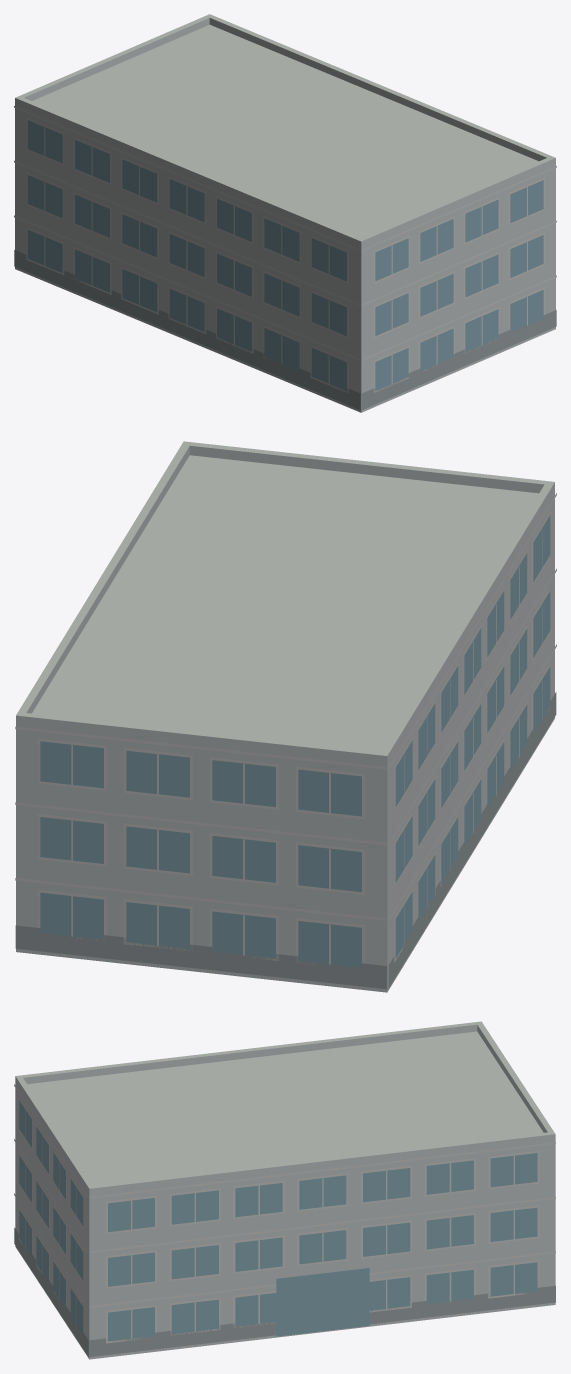
File: public-fff2ac7d-e3e2-4233-96e4-313e4d948b2d.glb
3 renders of one model, top to bottom at view 1: azimuth 30°, elevation 25°; view 2: azimuth 150°, elevation 25°; view 3: azimuth 270°, elevation 25°, orthographic. The views are drawn at different scales.
Parts seen in each view (by area): view 1: public-fff2ac7d-e3e2-4233-96e4-313e4d948b2d; view 2: public-fff2ac7d-e3e2-4233-96e4-313e4d948b2d; view 3: public-fff2ac7d-e3e2-4233-96e4-313e4d948b2d.
Part boxes in pixels (x1=…): public-fff2ac7d-e3e2-4233-96e4-313e4d948b2d: x1=14, y1=14, x2=556, y2=412; public-fff2ac7d-e3e2-4233-96e4-313e4d948b2d: x1=15, y1=441, x2=556, y2=992; public-fff2ac7d-e3e2-4233-96e4-313e4d948b2d: x1=14, y1=1021, x2=555, y2=1359.
Size of the model in its own units: 19.38 by 9.15 by 26.37.
